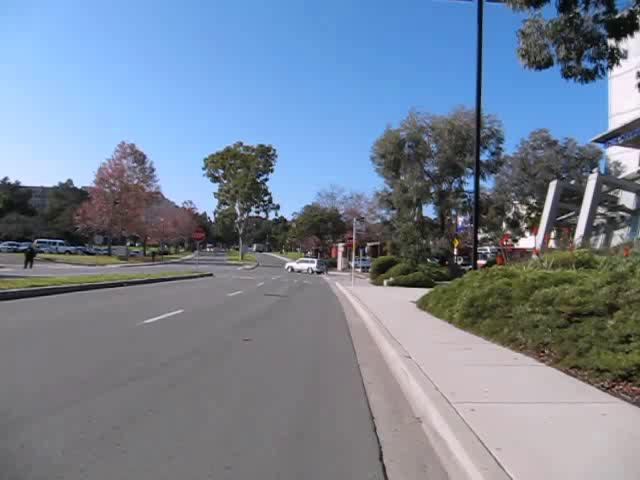stop: (189, 227, 205, 243)
